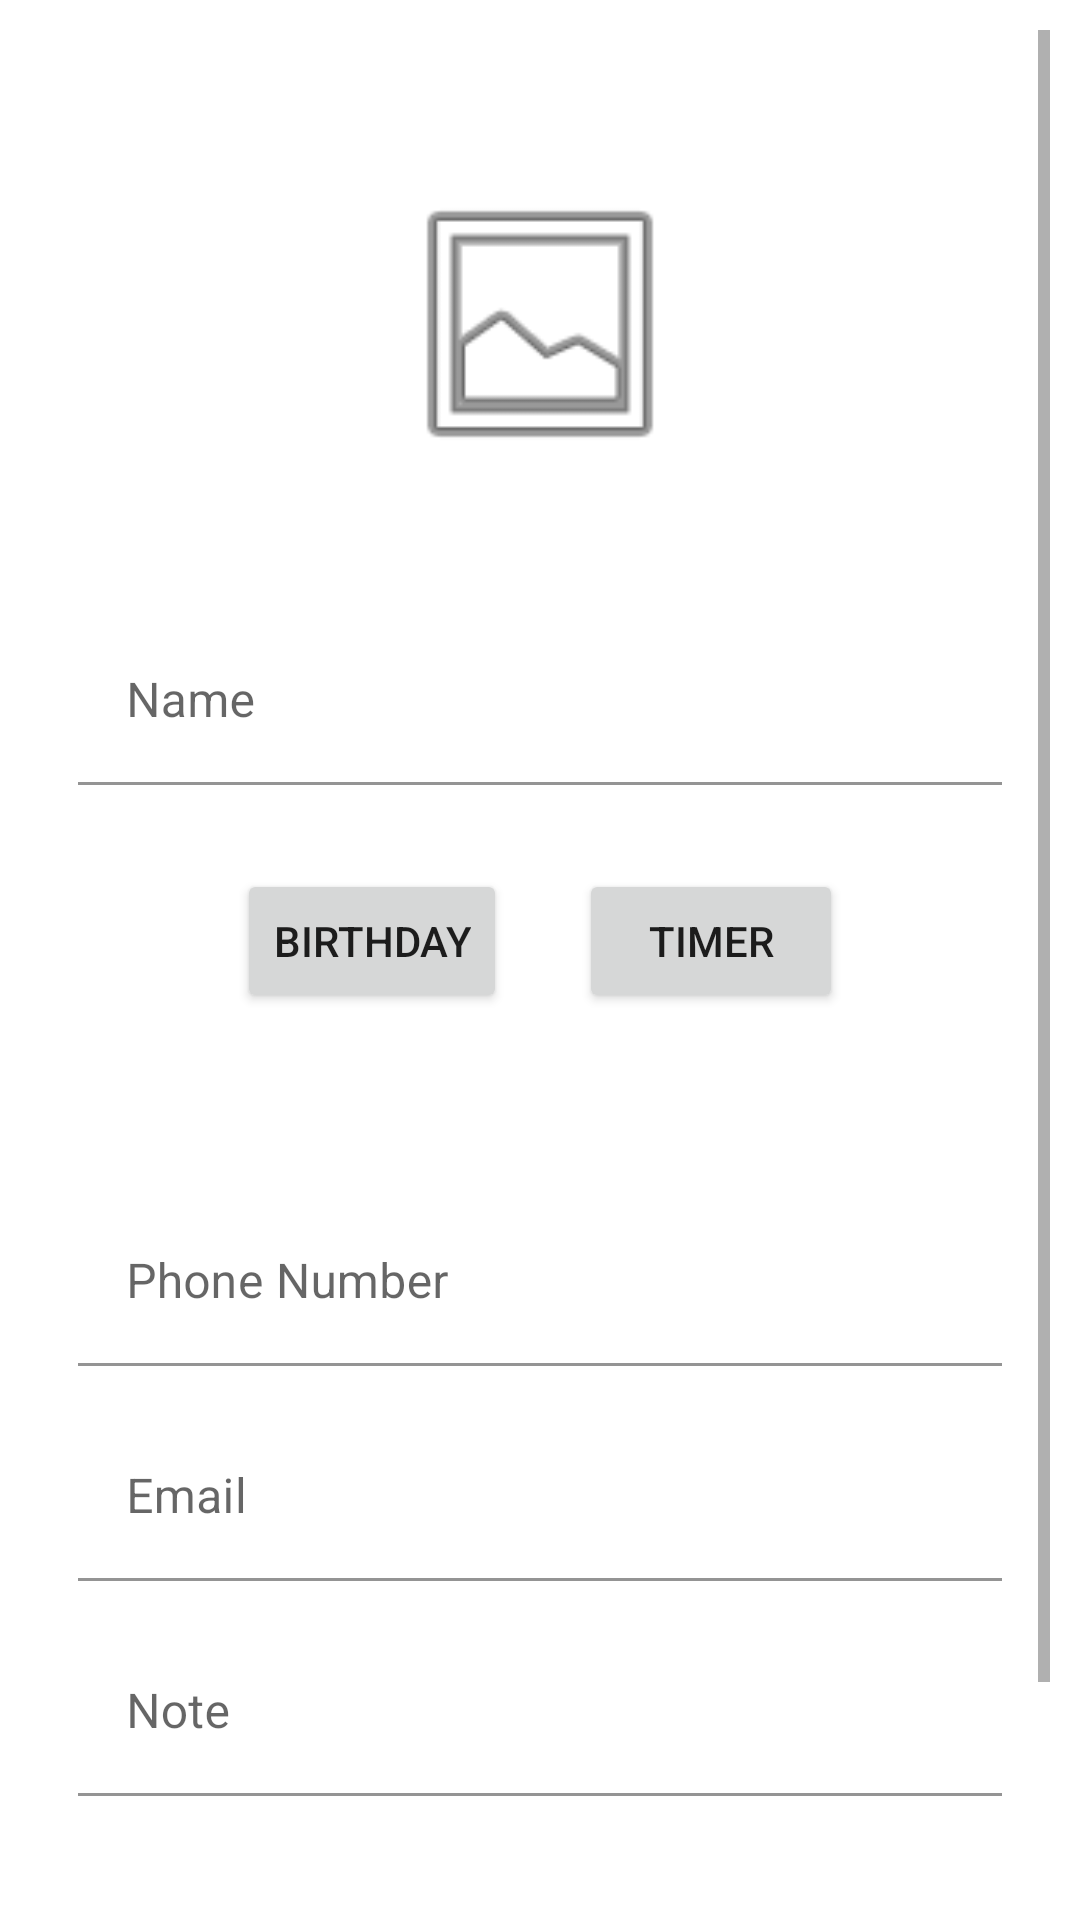

Named icons in this screenshot (1080w x 1920h) and their bounding boxes, (x1, y1, x2, y2):
gallery: (427, 211, 653, 437)
